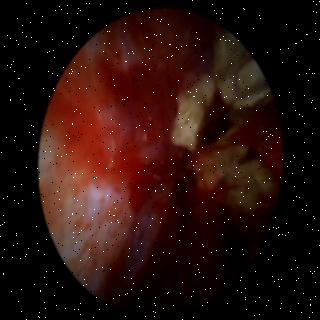stone: (197, 145, 280, 211), (215, 31, 271, 107), (173, 74, 214, 150)
tissue: (45, 14, 265, 312)
